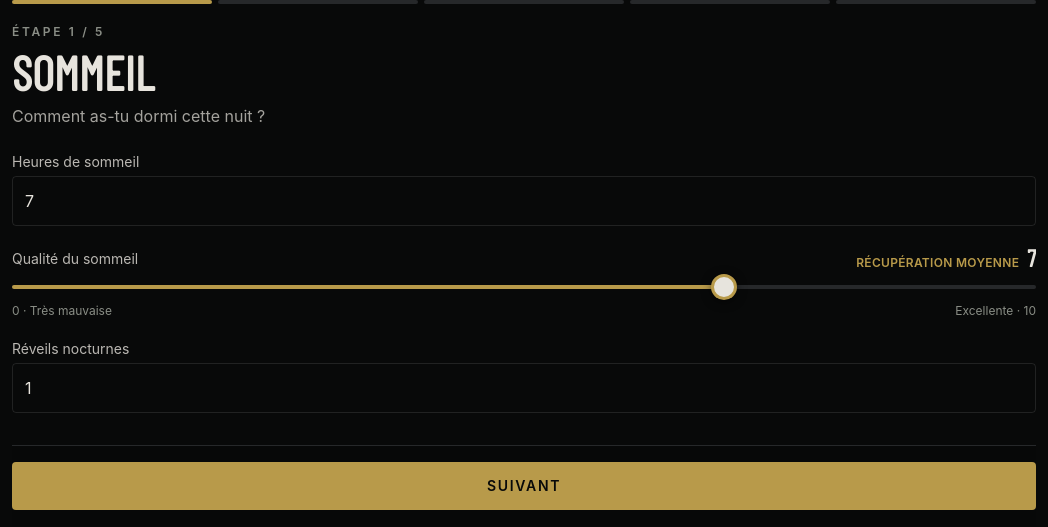
A10 — the time question in the check-in › a saved time is shown again on edit (reload), e.g. 30 min pre-selected
This screenshot has width=1048, height=527.
expect the heading "Sommeil" is shown: met, box [12, 43, 154, 101]
What coordinates should you click on to do the following:
click the button "Suivant"
I would click on:
 (524, 486)
Its box is [12, 462, 1036, 510].
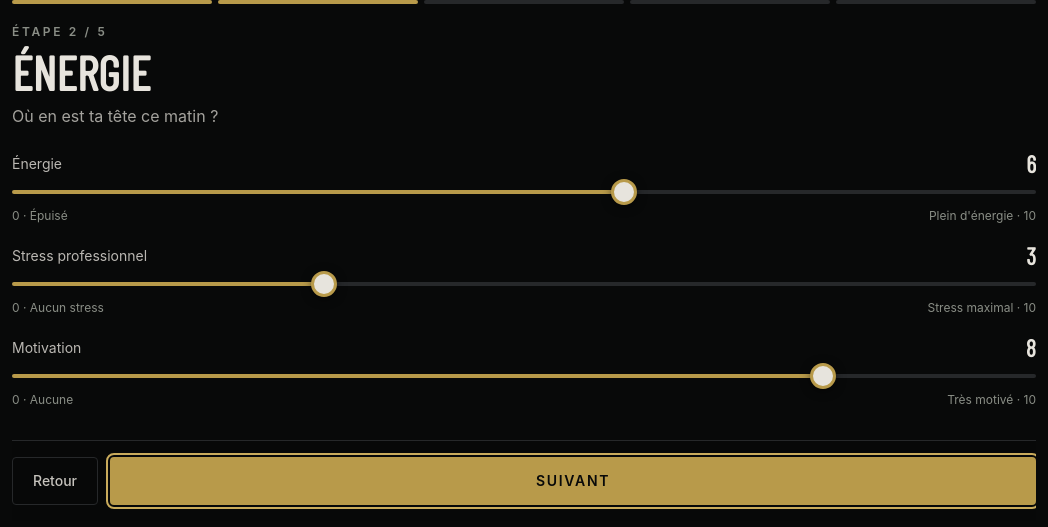
What coordinates should you click on to do the following:
click the button "Suivant"
I would click on:
 (573, 481)
Its box is [110, 457, 1036, 505].
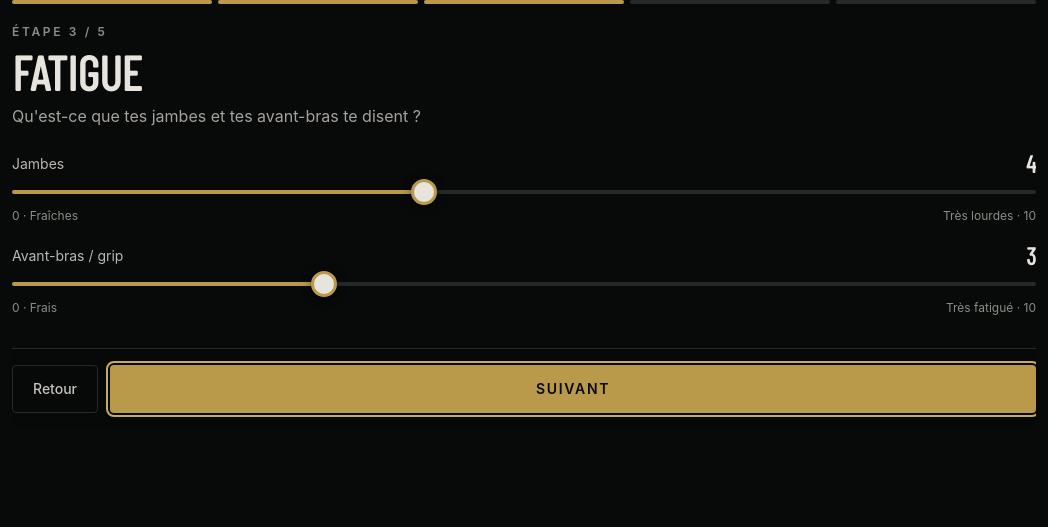
What coordinates should you click on to do the following:
click the button "Suivant"
I would click on:
 (573, 389)
Its box is [110, 365, 1036, 413].
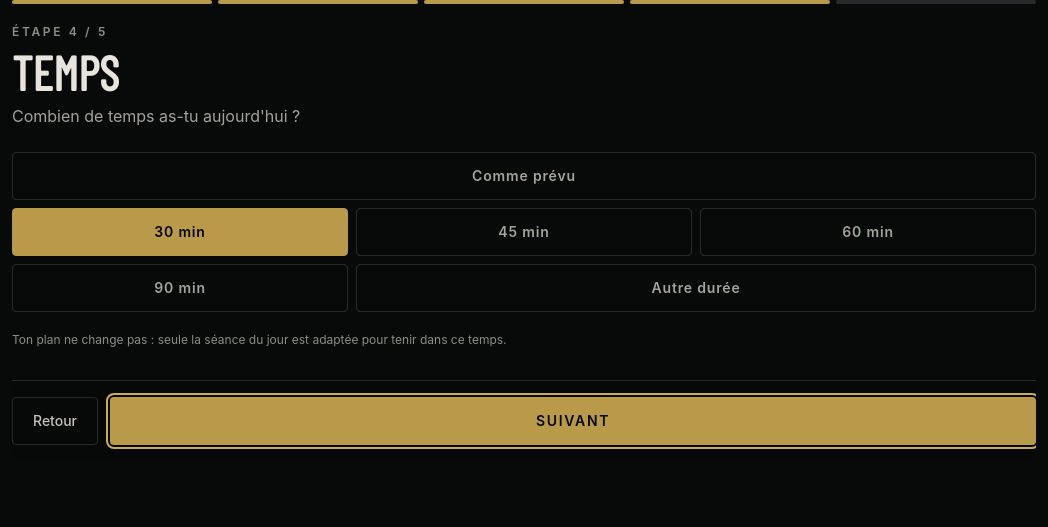
expect the heading "Temps" is shown: met, box [12, 43, 119, 101]
